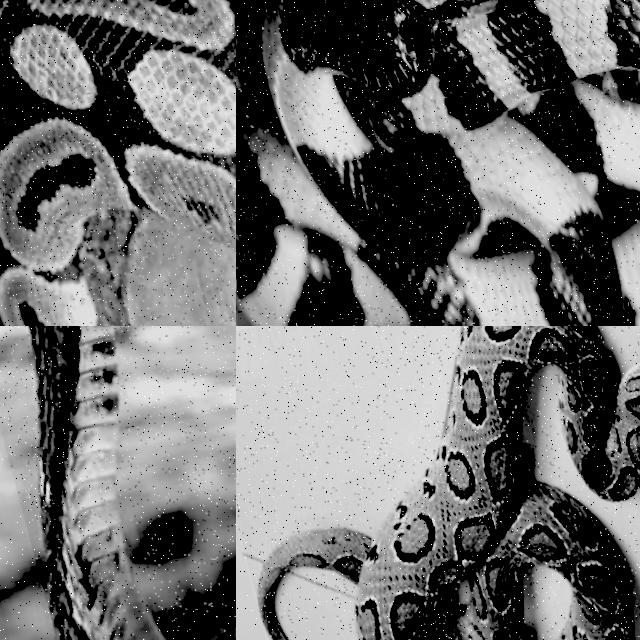Bungarus candidus: (236, 0, 639, 325)
Daboia siamensis: (257, 326, 639, 639)
Naja kaouthia: (29, 326, 166, 639)
Python bivittatus: (0, 0, 235, 325)
snake: (236, 0, 639, 325), (257, 326, 639, 639), (0, 0, 235, 325), (29, 326, 166, 639)
